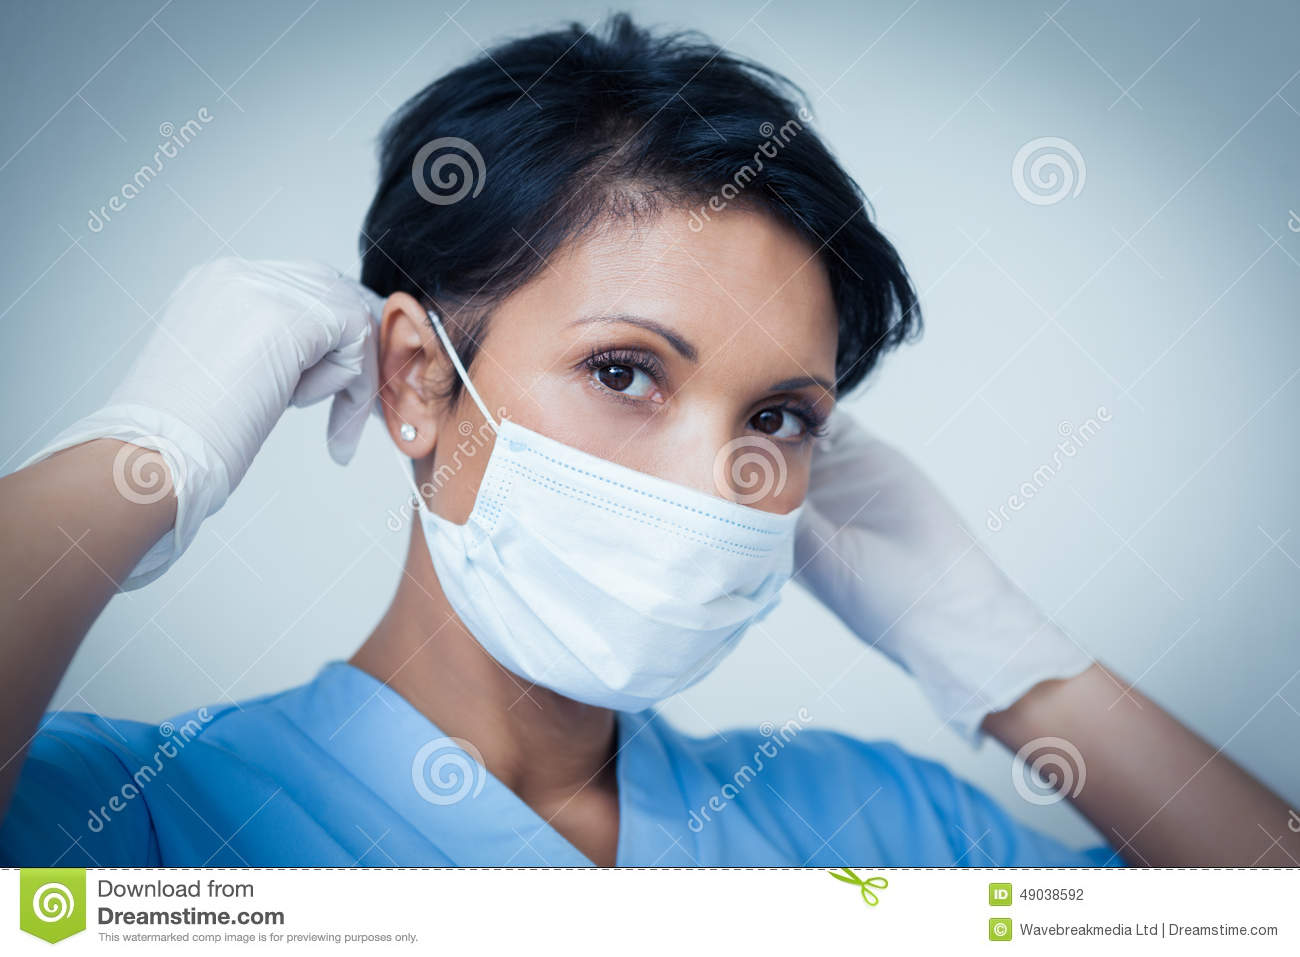mask: (436, 444, 825, 729)
